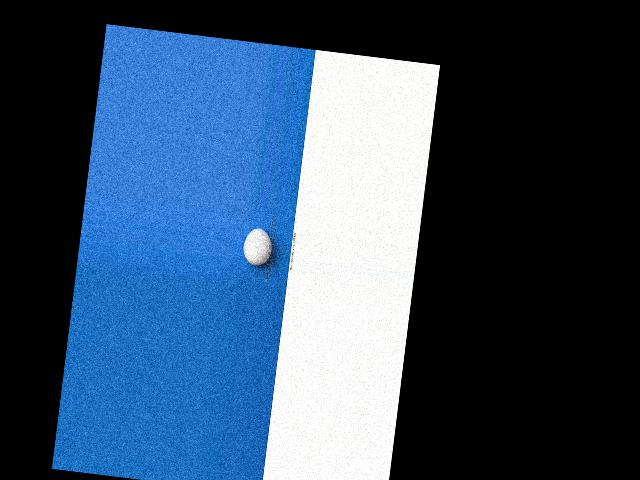egg: (242, 227, 275, 267)
